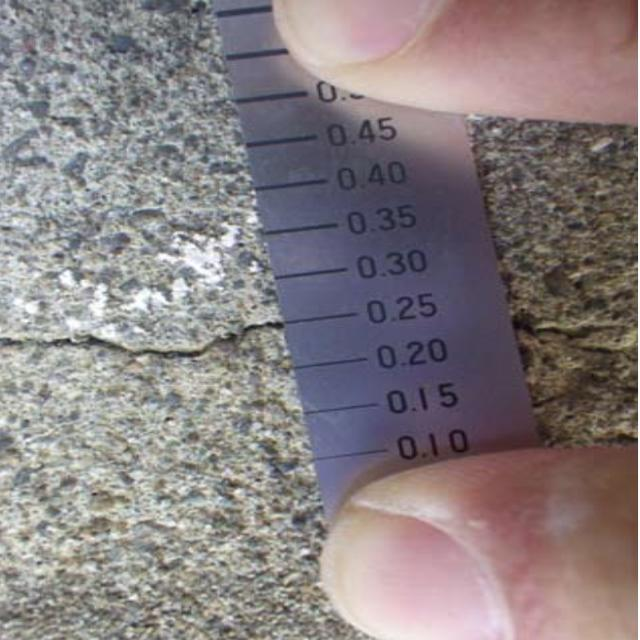crack: (0, 311, 281, 375)
